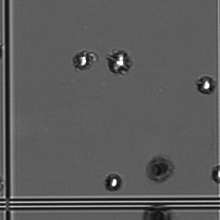Dead Cell: (145, 156, 174, 183)
Living Cell: (105, 48, 133, 75), (72, 49, 94, 71), (195, 74, 216, 95), (104, 173, 122, 192)
